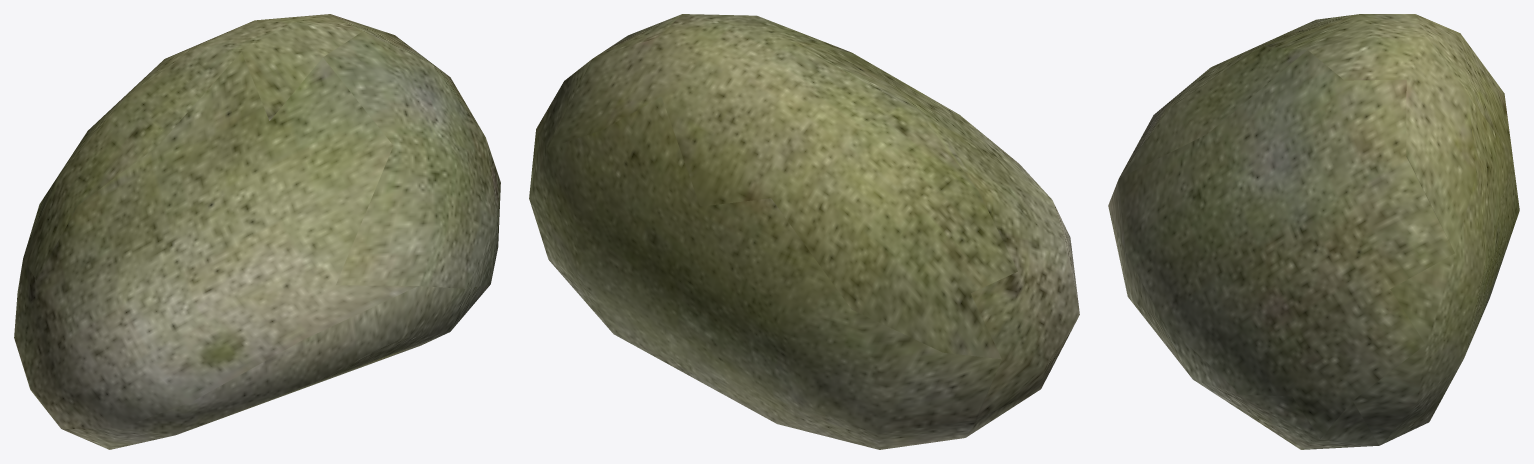
The model's file is rock019.glb.
The picture shows the model from 3 angles, left to right: view 1: azimuth 30°, elevation 25°; view 2: azimuth 150°, elevation 25°; view 3: azimuth 270°, elevation 25°; orthographic projection. The views are drawn at different scales.
Parts seen in each view (by area): view 1: rock019; view 2: rock019; view 3: rock019.
Part boxes in pixels (<box>): rock019: <box>14,14,500,449</box>; rock019: <box>529,14,1079,449</box>; rock019: <box>1108,14,1519,449</box>.
Bounding box in the file's own units: 0.9765 × 0.7278 × 0.6653.
Materials: 1 (1 with a texture image).
